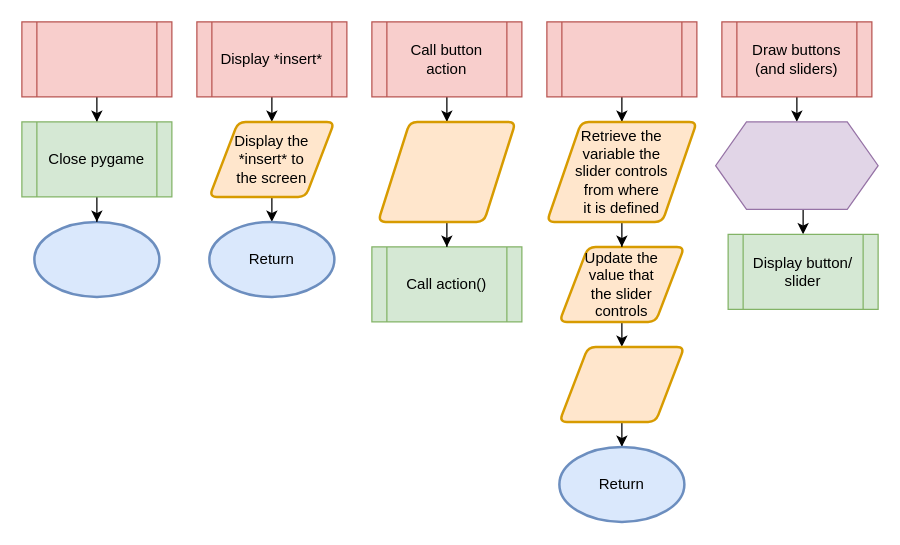
Some shapes in this 900 by 545 pixel diagram are drawn without their labels. Here are the shapes that lost their labels. From the top down, the centre of each, then its label:
point 96,59: Quit
point 621,59: Call slider update
point 446,171: Find the action from where the button was defined
point 796,165: For button/slider in buttons/slider:
point 96,259: End program
point 621,383: Update the position of the slide
